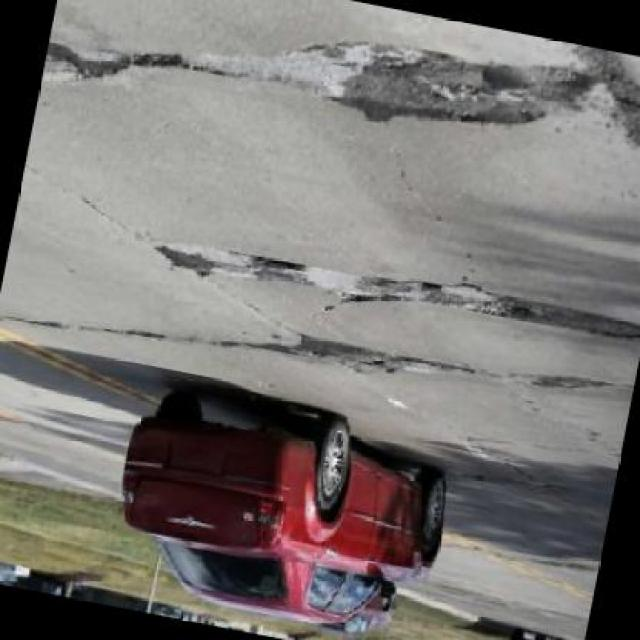pothole1: (317, 21, 588, 164), (408, 275, 638, 351), (284, 331, 439, 392), (42, 39, 130, 90), (243, 251, 303, 284)
